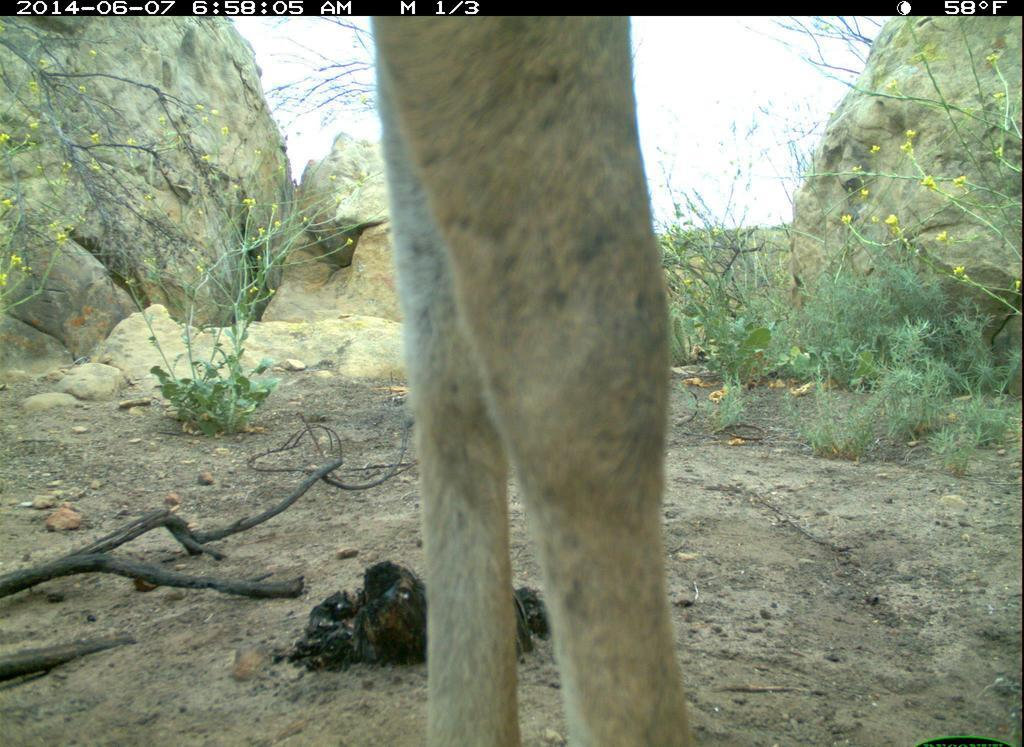deer: (360, 18, 731, 743)
